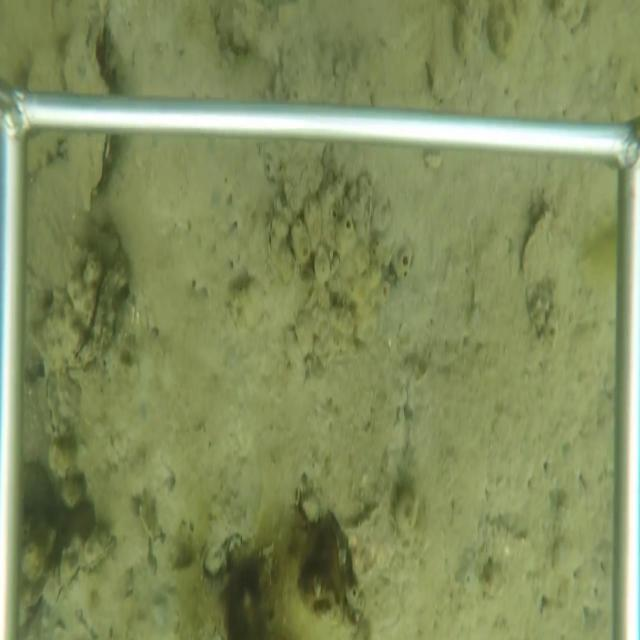Oyster-Closed: (30, 203, 128, 370)
Oyster-Indeterminate: (522, 206, 556, 283)
